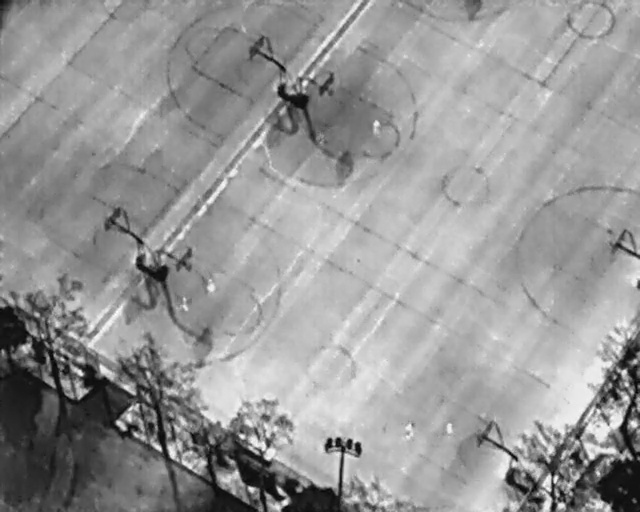Person: (404, 418, 415, 438), (206, 276, 217, 295), (373, 117, 382, 136), (179, 292, 188, 311), (445, 419, 454, 436)
